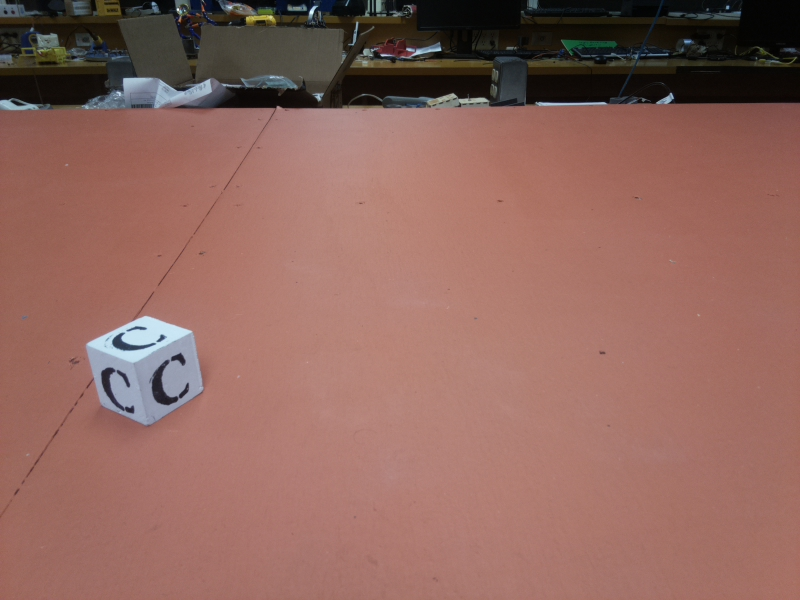blockC: (88, 312, 205, 428)
